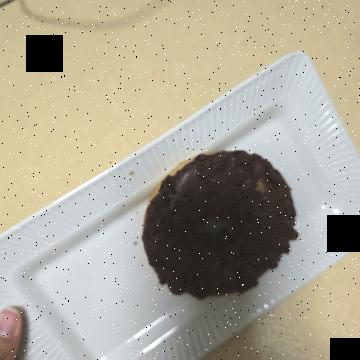doughnut: (136, 47, 316, 226)
